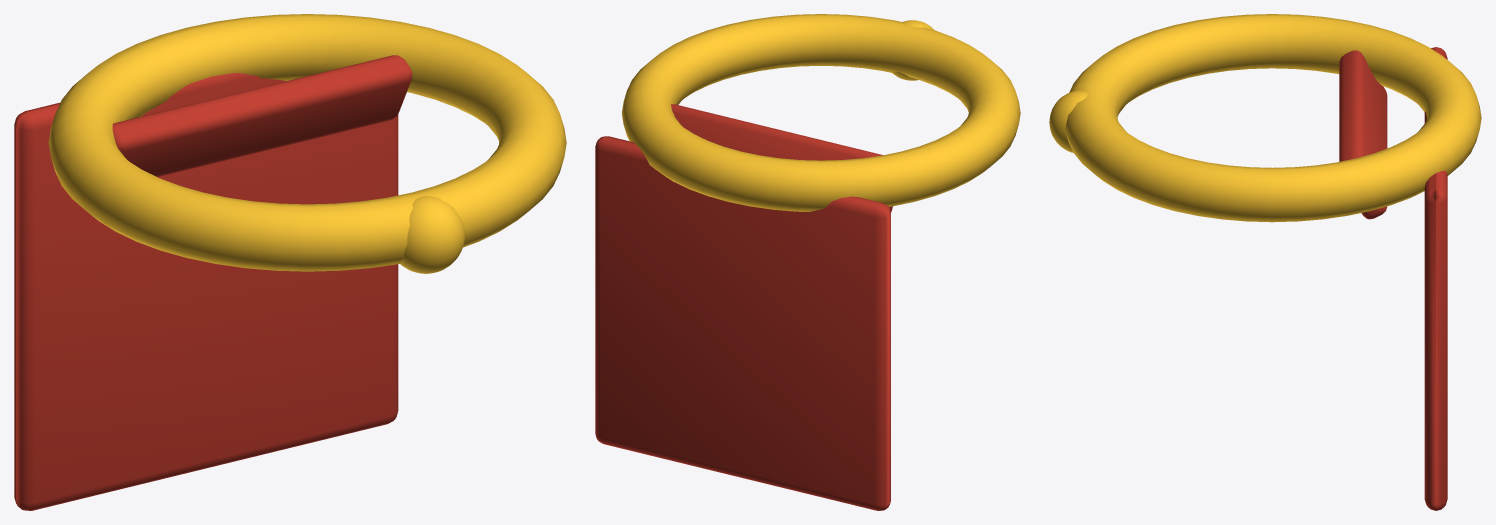
File: knight-cape.glb
3 renders of one model, left to right at view 1: azimuth 30°, elevation 25°; view 2: azimuth 150°, elevation 25°; view 3: azimuth 270°, elevation 25°, orthographic. The views are drawn at different scales.
Visible parts, largest first — view 1: knight-cape; view 2: knight-cape; view 3: knight-cape.
Part boxes in pixels (bbox=[...]): knight-cape: bbox=[14, 14, 566, 510]; knight-cape: bbox=[595, 14, 1020, 510]; knight-cape: bbox=[1049, 14, 1481, 510].
Bounding box in the file's own units: 0.92 × 0.84 × 0.95.
